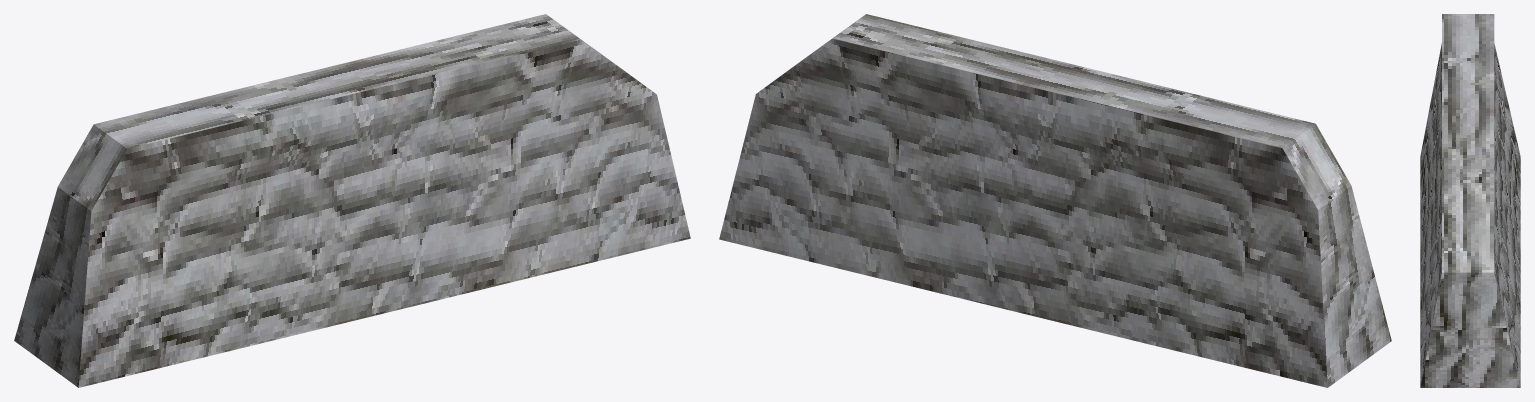
File: sandbags.glb
3 views of the same model, side by side, from view 1: azimuth 30°, elevation 25°; view 2: azimuth 150°, elevation 25°; view 3: azimuth 270°, elevation 25° (orthographic). The views are drawn at different scales.
Parts seen in each view (by area): view 1: Cube; view 2: Cube; view 3: Cube.
Boxes of the visible parts, <box> form: Cube: <box>14,14,690,387</box>; Cube: <box>719,14,1391,387</box>; Cube: <box>1420,14,1520,387</box>.
Bounding box in the file's own units: 6 × 2 × 1.09.
1 material, 1 textured.
